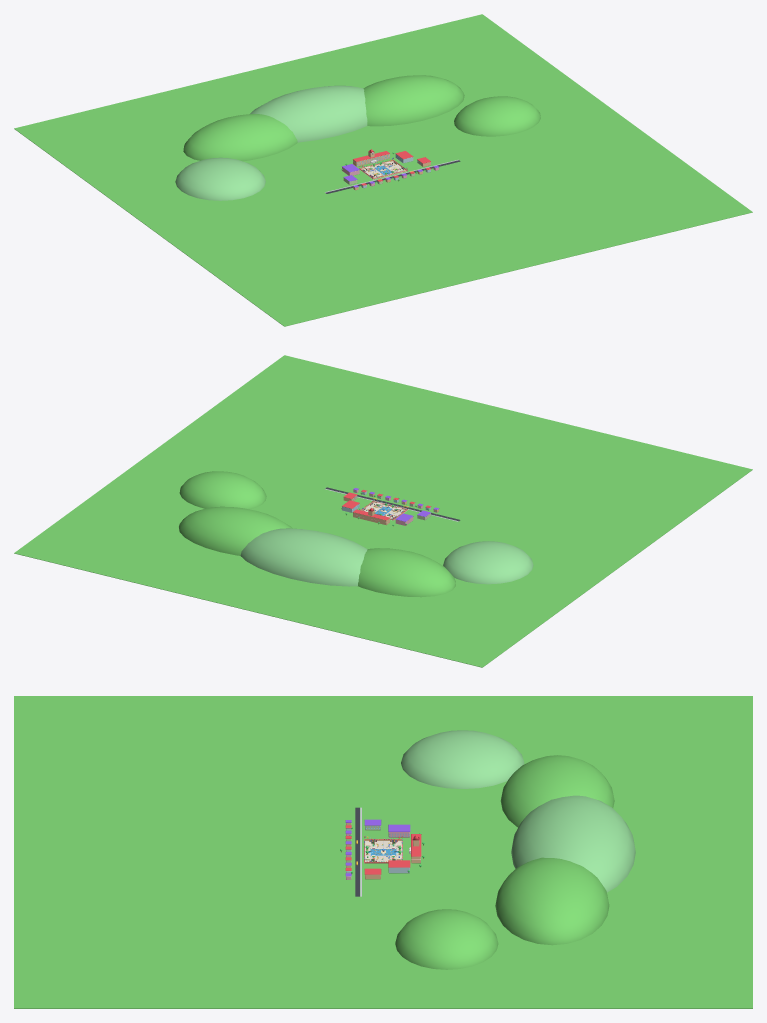
Rendered from escola.glb.
3 renders of one model, top to bottom at view 1: azimuth 30°, elevation 25°; view 2: azimuth 150°, elevation 25°; view 3: azimuth 270°, elevation 25°, orthographic. The views are drawn at different scales.
Parts seen in each view (by area): view 1: Visual; view 2: Visual; view 3: Visual.
Part boxes in pixels (box(x1,y1,x2,y2)): Visual: box(14, 14, 752, 326); Visual: box(14, 355, 752, 667); Visual: box(14, 696, 752, 1008).
Size of the model in its own units: 1400 by 160 by 1400.
